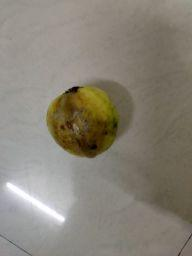guava: (44, 84, 120, 160)
